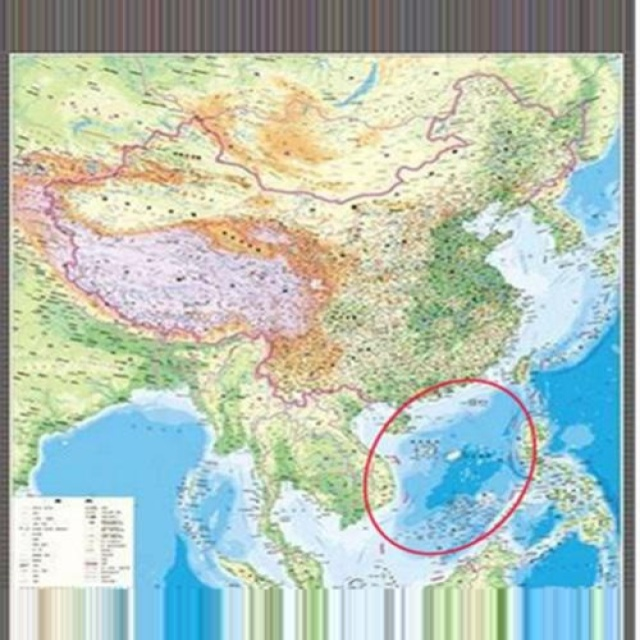Nine Dash Line: (363, 377, 552, 628)
